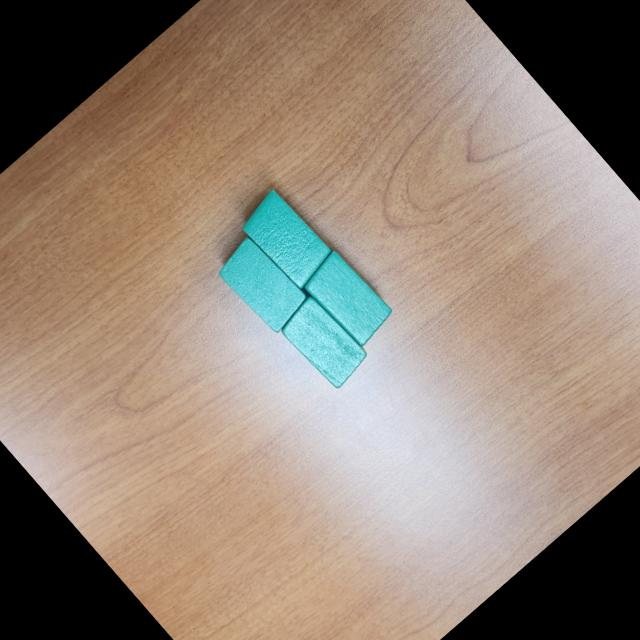green: (234, 185, 338, 292), (210, 230, 313, 337), (298, 247, 399, 352), (274, 290, 374, 394)
